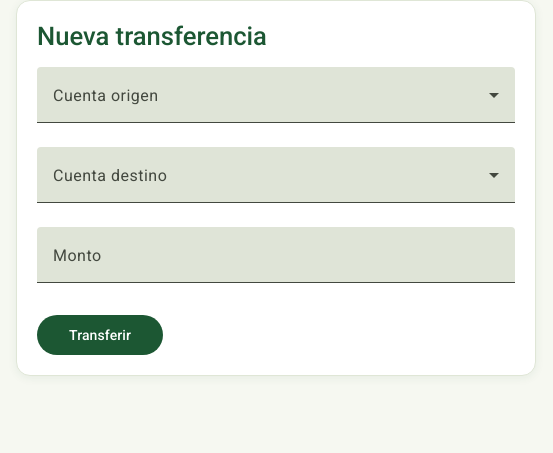
TransferenciaFormComponent › debe_mostrar_requerido_en_cada_campo_y_no_llamar_al_backend_cuando_se_envia_vacio
Click the submit button at (100, 335), box [37,315,163,355]
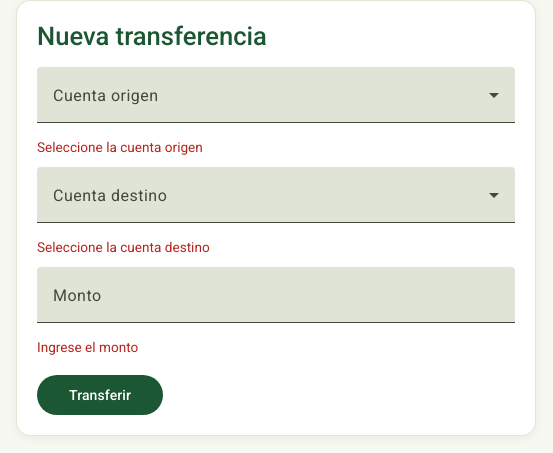
Expected: the text "Seleccione la cuenta origen" is shown, [37,139,203,155]
Expected: the text "Seleccione la cuenta destino" is shown, [37,239,210,255]
Expected: the text "Ingrese el monto" is shown, [37,339,138,355]
